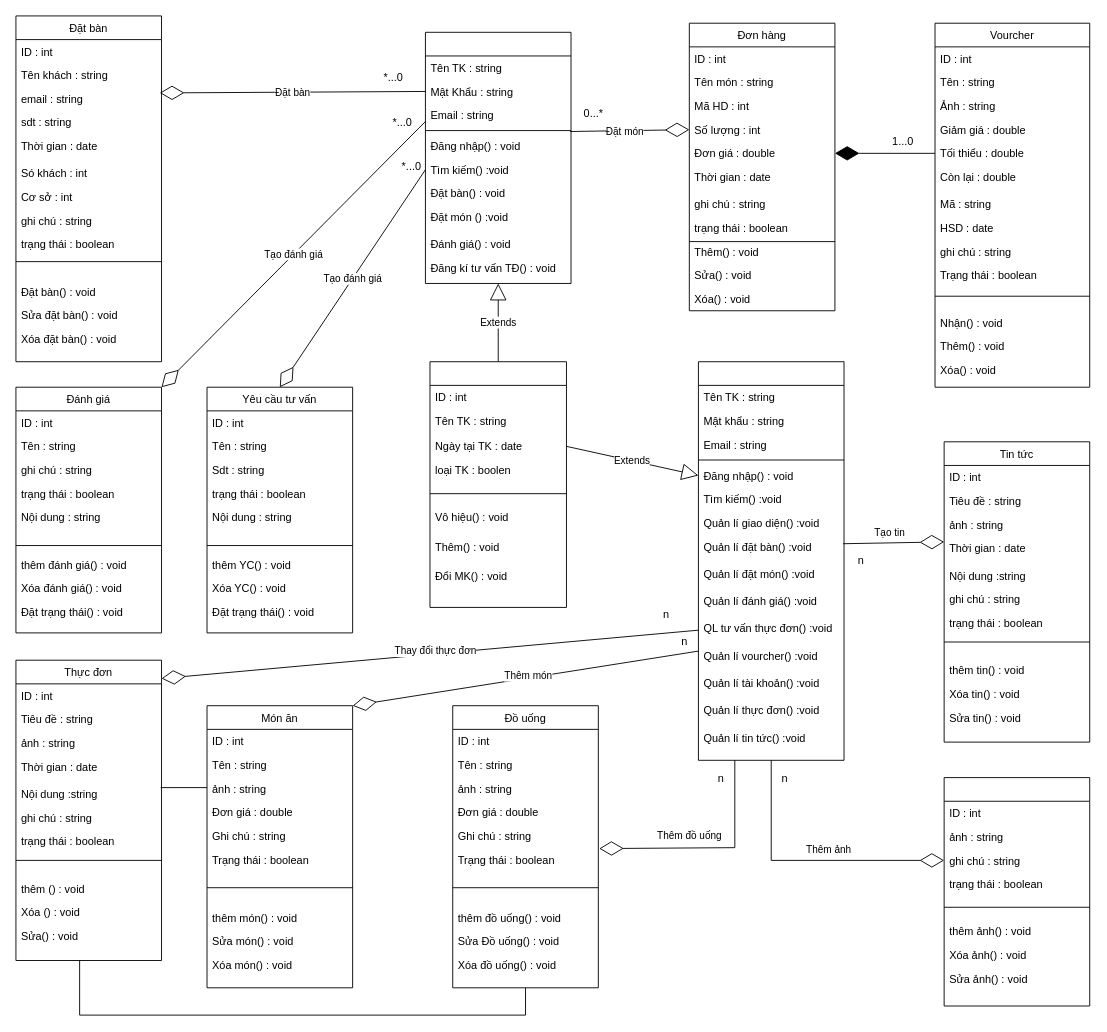
The diagram is 1107 pixels wide and 1032 high, and some of its shapes have lost their labels. The shapes that lost their labels are listed below. From the top down, each one's box as (x1, y1, x2, y2) in pixels, then its label:
(425, 31, 571, 283): Người dùng
(429, 361, 566, 607): Tài khoản
(698, 361, 844, 760): Người quản trị
(943, 777, 1090, 1006): Thư viện ảnh
